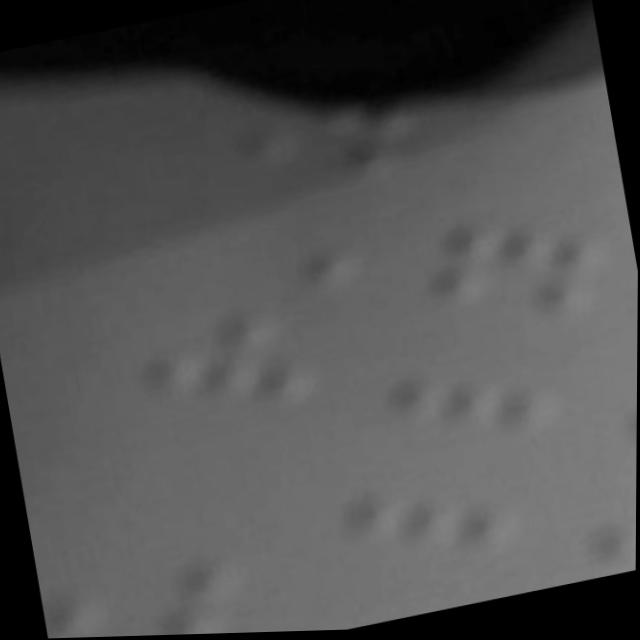braiile: (426, 188, 617, 338), (386, 304, 571, 456), (144, 290, 334, 437), (340, 434, 523, 575), (589, 481, 637, 580)
